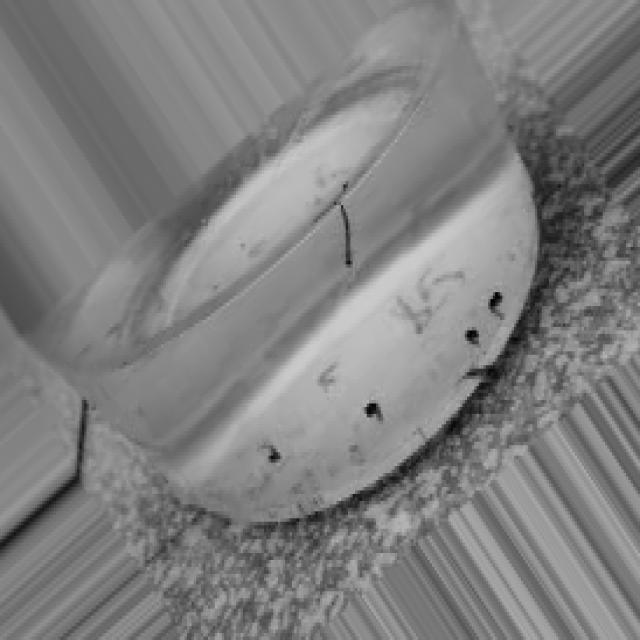larvas: (400, 297, 423, 337), (341, 209, 352, 265), (363, 396, 385, 423), (464, 366, 496, 384), (318, 362, 336, 388), (258, 441, 280, 462), (432, 270, 462, 285), (418, 264, 429, 304), (491, 290, 503, 319), (466, 326, 478, 348)
